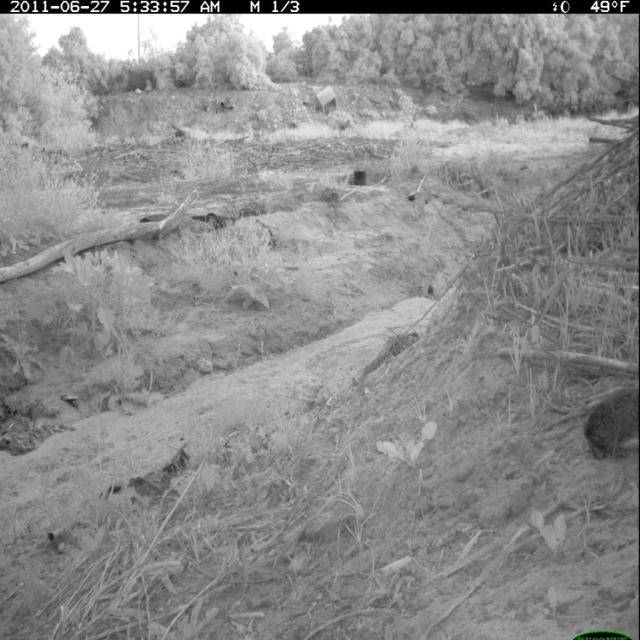rabbit: (576, 375, 640, 469)
